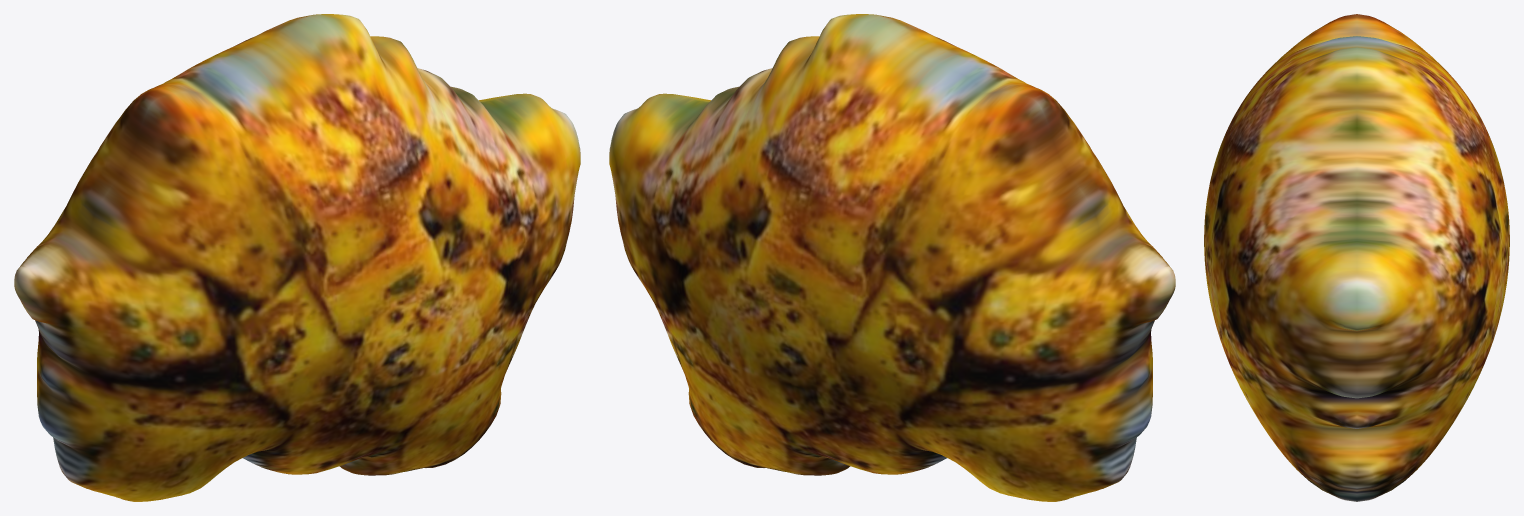
Rendered from mm_project (2).gltf.
The picture shows the model from 3 angles, left to right: view 1: azimuth 30°, elevation 25°; view 2: azimuth 150°, elevation 25°; view 3: azimuth 270°, elevation 25°; orthographic projection. The views are drawn at different scales.
Visible parts, largest first — view 1: Node #0; view 2: Node #0; view 3: Node #0.
Part boxes in pixels (x1,y1,x2,y2): Node #0: [14, 14, 580, 501]; Node #0: [609, 14, 1175, 501]; Node #0: [1204, 14, 1509, 501].
Bounding box in the file's own units: 6.92 × 5.54 × 3.8.
1 material, 1 textured.
